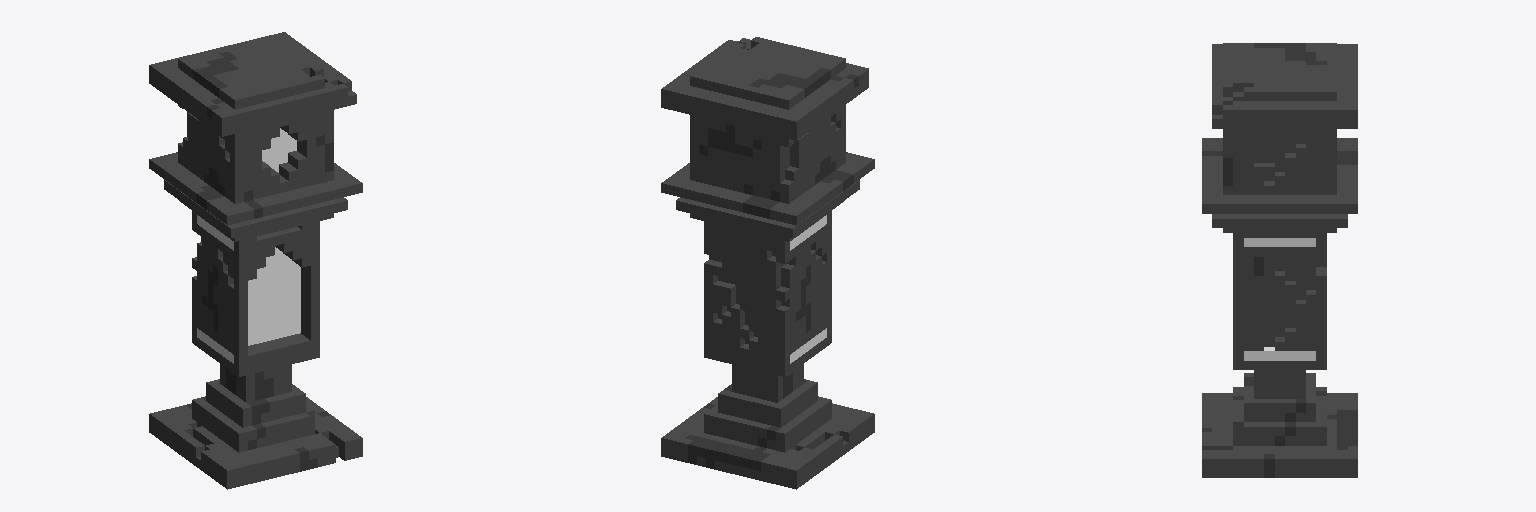
The picture shows the model from 3 angles: view 1: azimuth 30°, elevation 25°; view 2: azimuth 150°, elevation 25°; view 3: azimuth 270°, elevation 25°; orthographic projection.
Visible parts, largest first — view 1: Model; view 2: Model; view 3: Model.
Boxes of the visible parts, x1,y1,x2,y2 form: Model: [149, 32, 362, 489]; Model: [661, 37, 874, 489]; Model: [1202, 43, 1357, 477].
Bounding box in the file's own units: 12 × 32 × 12.
1 materials, 1 textured.